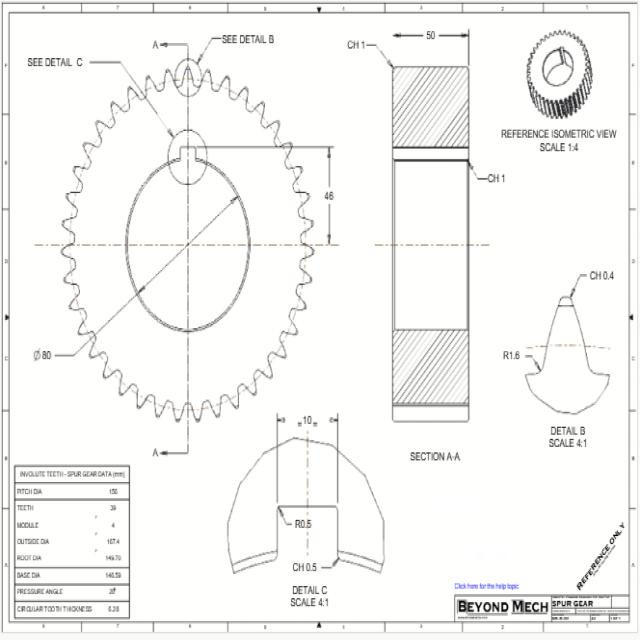Detail view: (217, 412, 391, 610), (488, 261, 619, 455)
Isometric view: (498, 29, 620, 160)
Sectional view: (344, 30, 508, 467)
Table 1: (12, 461, 134, 624)
Table 2: (452, 581, 632, 625)
Top view: (24, 26, 329, 458)
